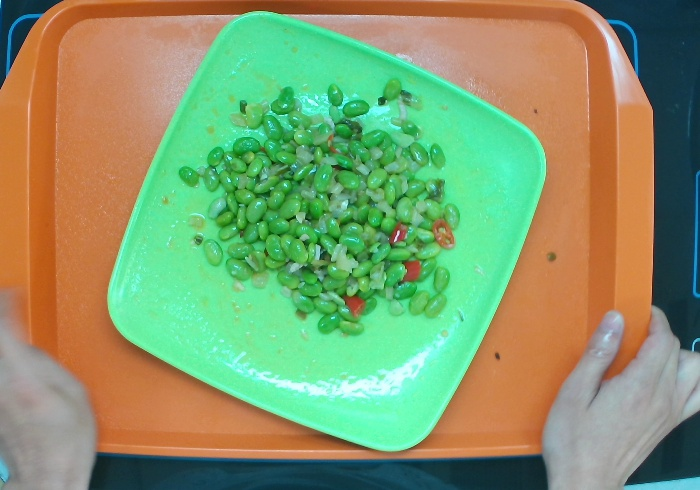ZNLD-Lv_Fang_Pan: (105, 11, 548, 455)
